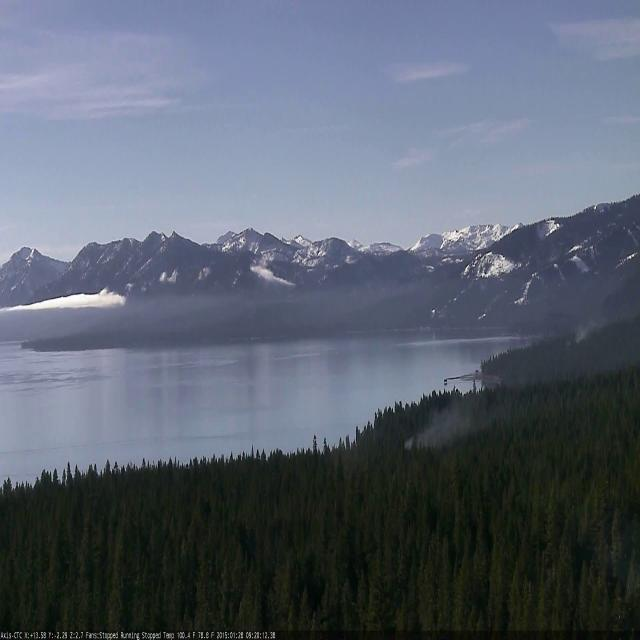smoke: (400, 394, 499, 455), (568, 307, 622, 351)
